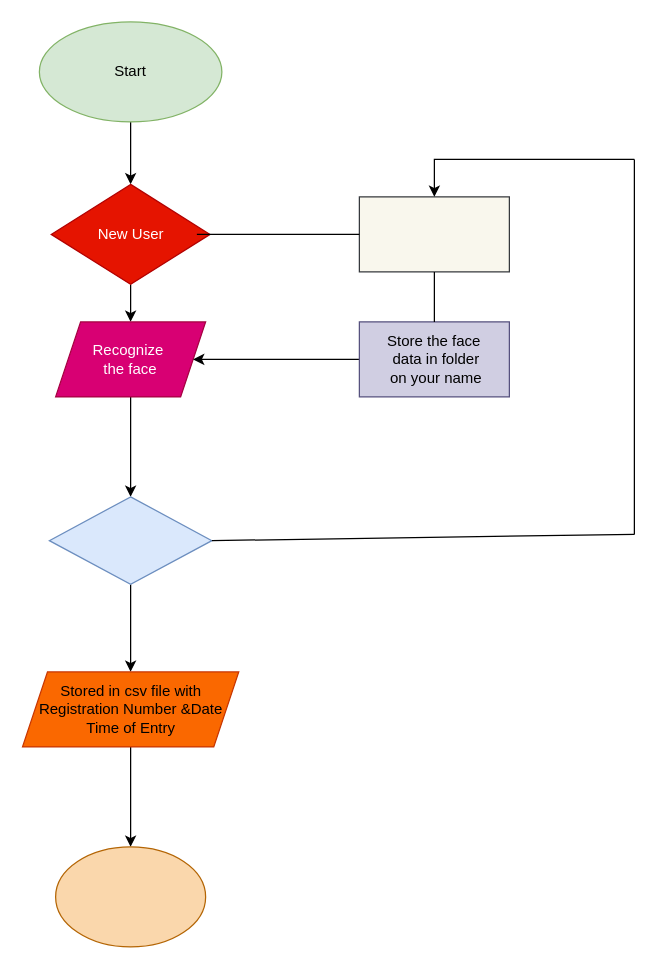
The diagram is 666 pixels wide and 969 high, and some of its shapes have lost their labels. Each missing label, with the box of its shape:
End: (54, 846, 206, 947)
Face Recorgnized: (48, 496, 212, 584)
Give Your Photograph: (358, 196, 509, 272)
